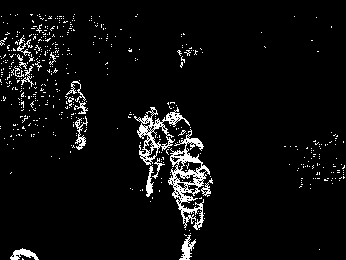person: (179, 137, 213, 260), (130, 105, 162, 198), (62, 80, 95, 150), (164, 101, 188, 147)
